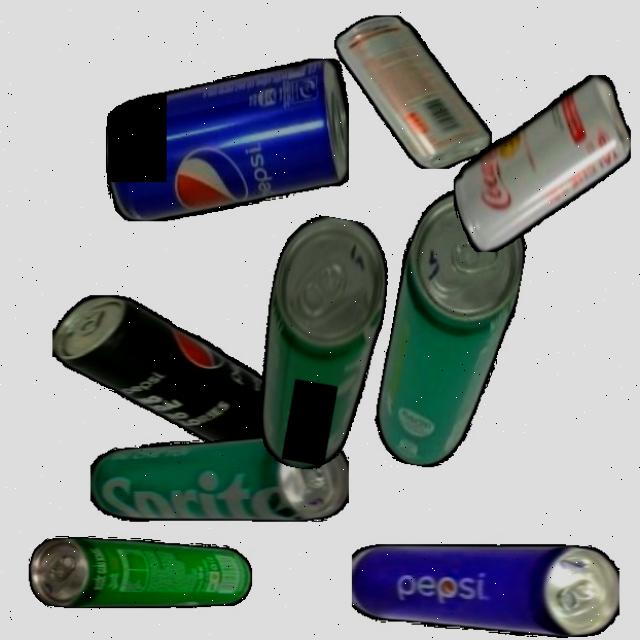debris: (368, 183, 534, 478), (243, 210, 398, 477), (105, 58, 349, 221), (51, 295, 286, 451), (452, 74, 630, 252), (351, 544, 619, 638), (334, 14, 492, 169), (89, 435, 349, 522), (29, 535, 252, 608)
